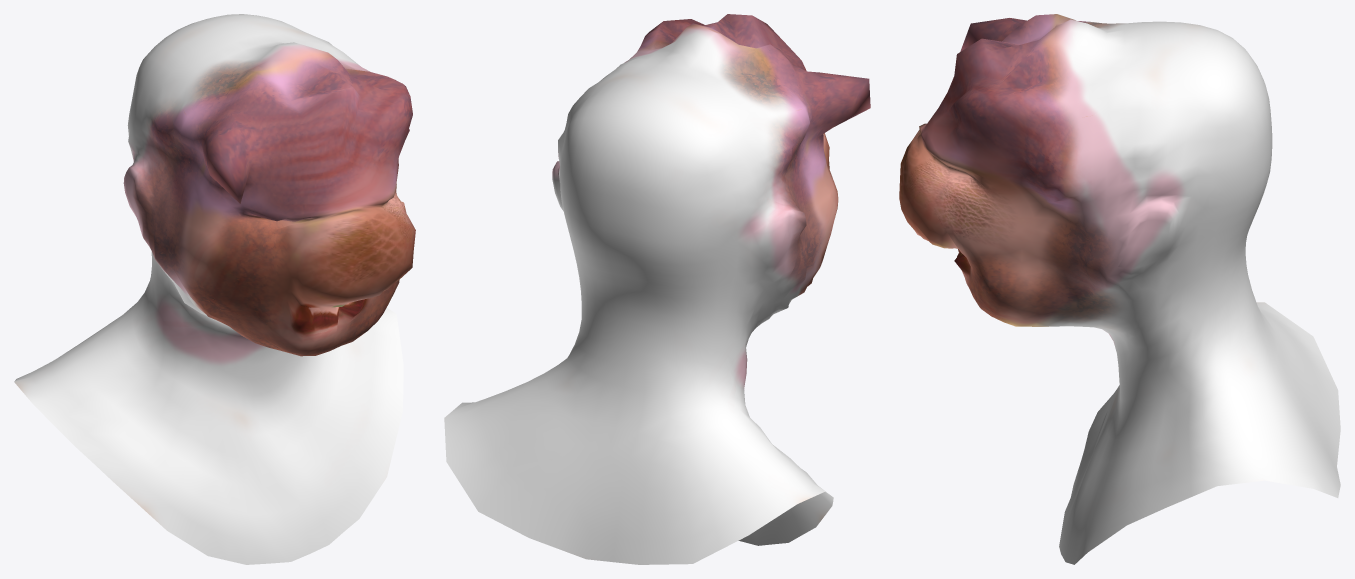
The model's file is monster.dae.
3 renders of one model, left to right at view 1: azimuth 30°, elevation 25°; view 2: azimuth 150°, elevation 25°; view 3: azimuth 270°, elevation 25°, orthographic. The views are drawn at different scales.
Parts seen in each view (by area): view 1: basicHead; view 2: basicHead; view 3: basicHead.
Boxes of the visible parts, x1=… form: basicHead: x1=14, y1=14, x2=415, y2=564; basicHead: x1=444, y1=14, x2=870, y2=564; basicHead: x1=899, y1=14, x2=1340, y2=564.
Bounding box in the file's own units: 59.18 × 60.18 × 79.19.
1 material, 1 textured.
